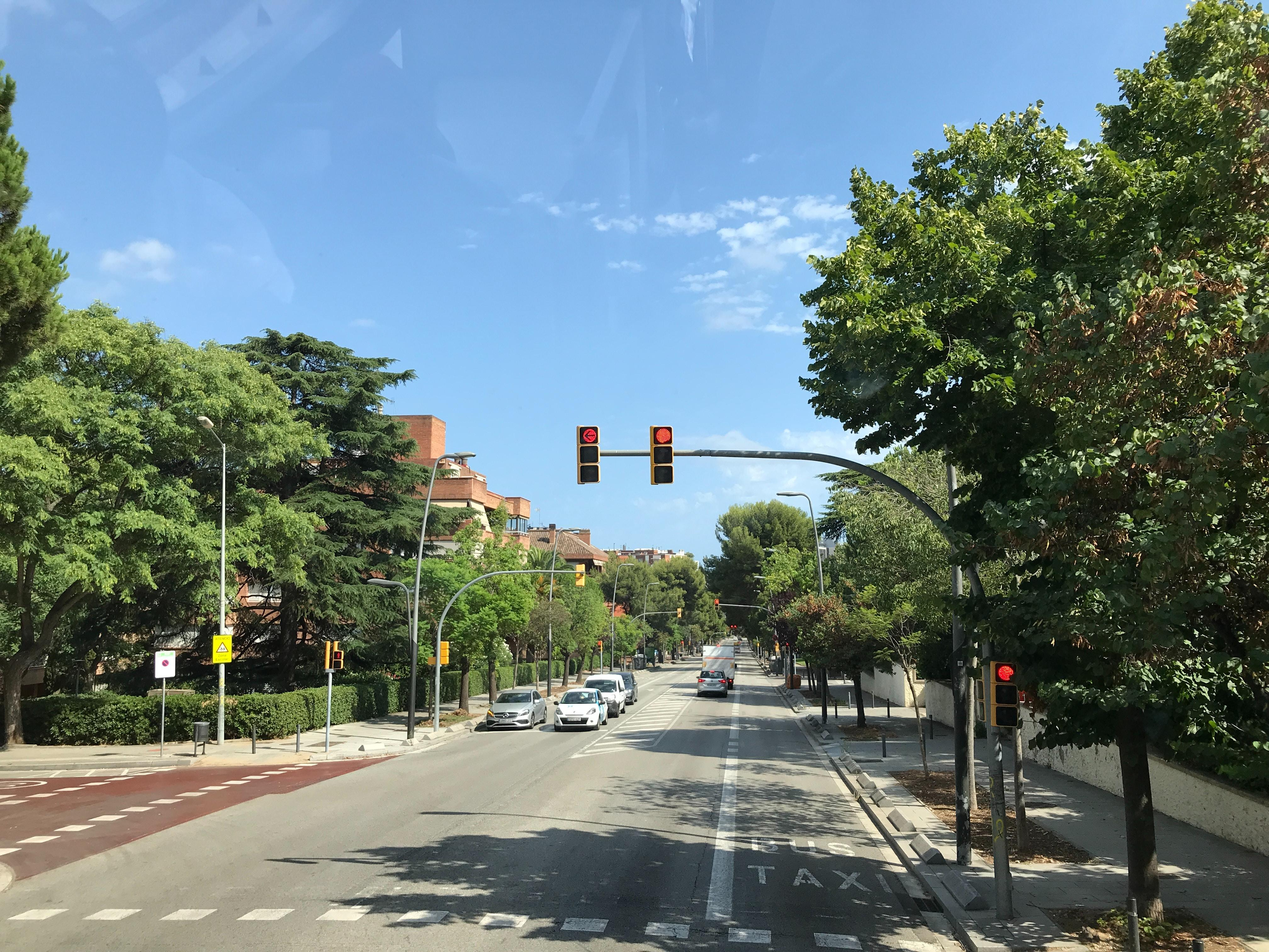red: (963, 642, 1042, 756)
